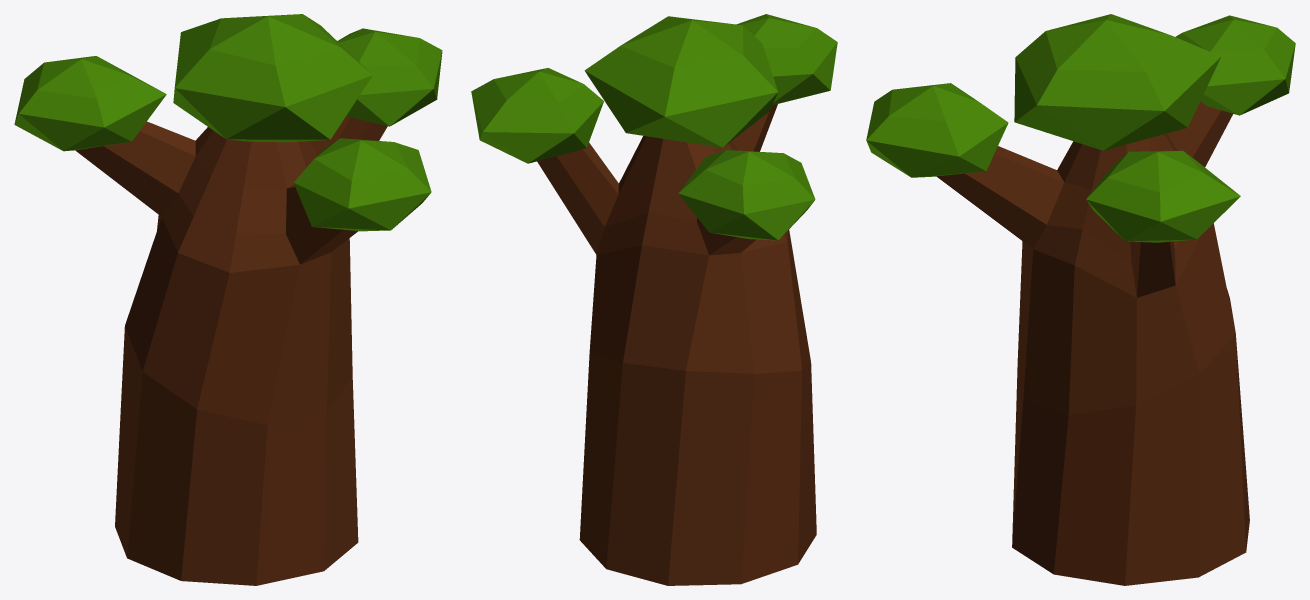
File: T_Baobab3.fbx
The picture shows the model from 3 angles, left to right: view 1: azimuth 30°, elevation 25°; view 2: azimuth 150°, elevation 25°; view 3: azimuth 270°, elevation 25°; orthographic projection. The views are drawn at different scales.
Visible parts, largest first — view 1: Cylinder; view 2: Cylinder; view 3: Cylinder.
Part boxes in pixels (x1,y1,x2,y2): Cylinder: (14,14,442,585); Cylinder: (471,14,837,585); Cylinder: (866,14,1295,585).
Bounding box in the file's own units: 6.63 × 8.49 × 6.31.
